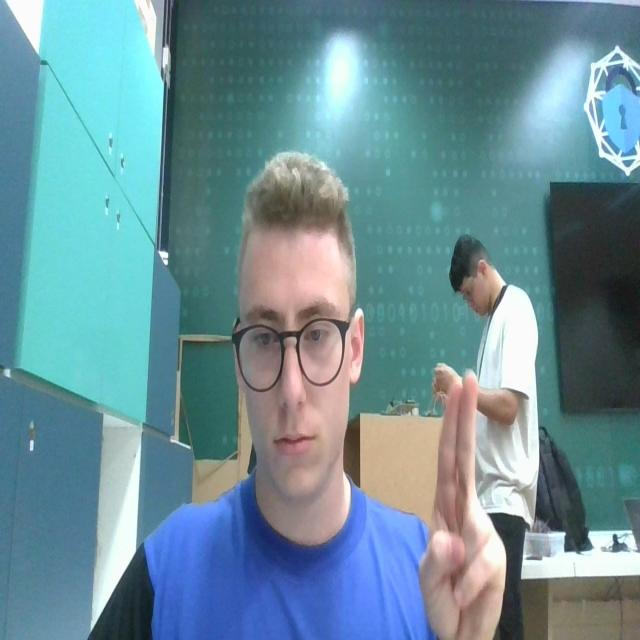U: (420, 364, 509, 640)
